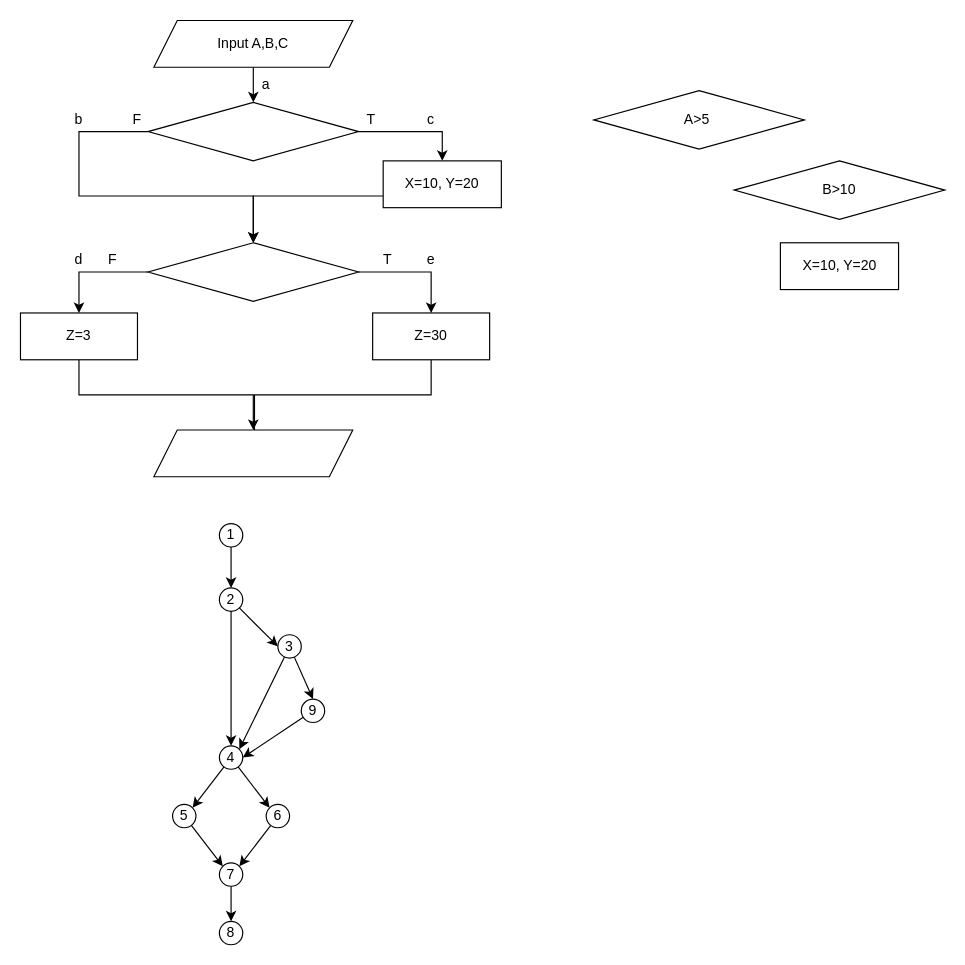
The diagram is 965 pixels wide and 965 high, and some of its shapes have lost their labels. Each missing label, with the centre of its shape:
"A>5 and B>10" belongs at point 253,131.
"C>15" belongs at point 253,271.
"print X, Y, Z" belongs at point 253,453.
